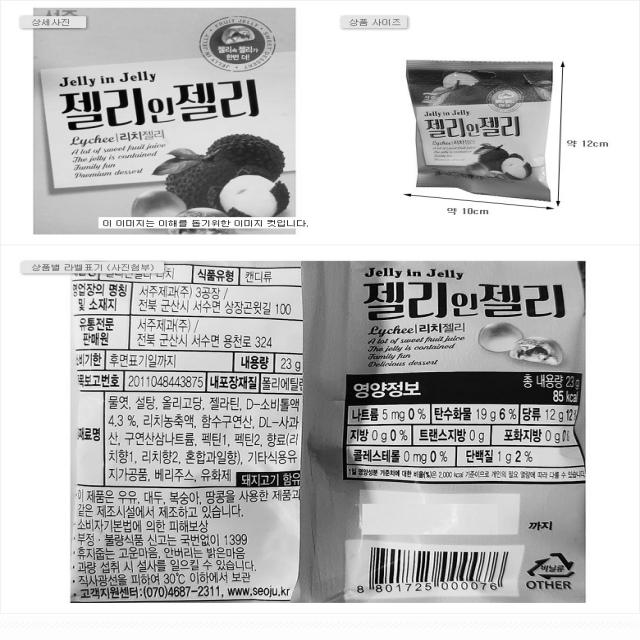Nutrition Label: (341, 371, 601, 497)
